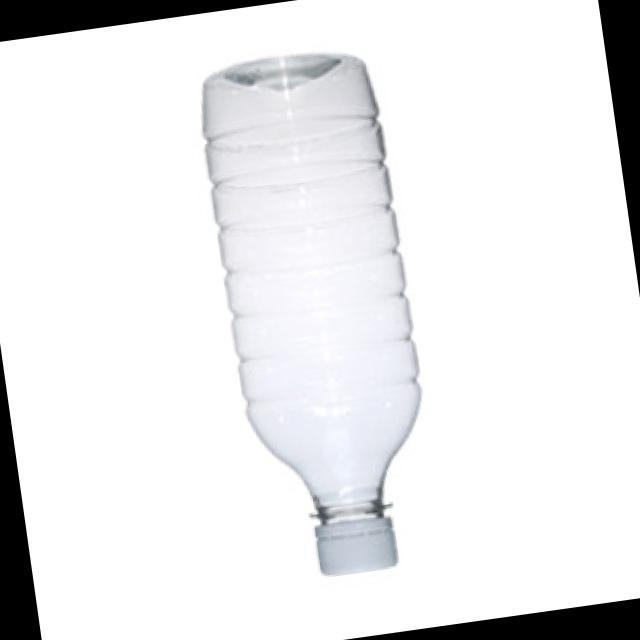good: (150, 22, 516, 604)
